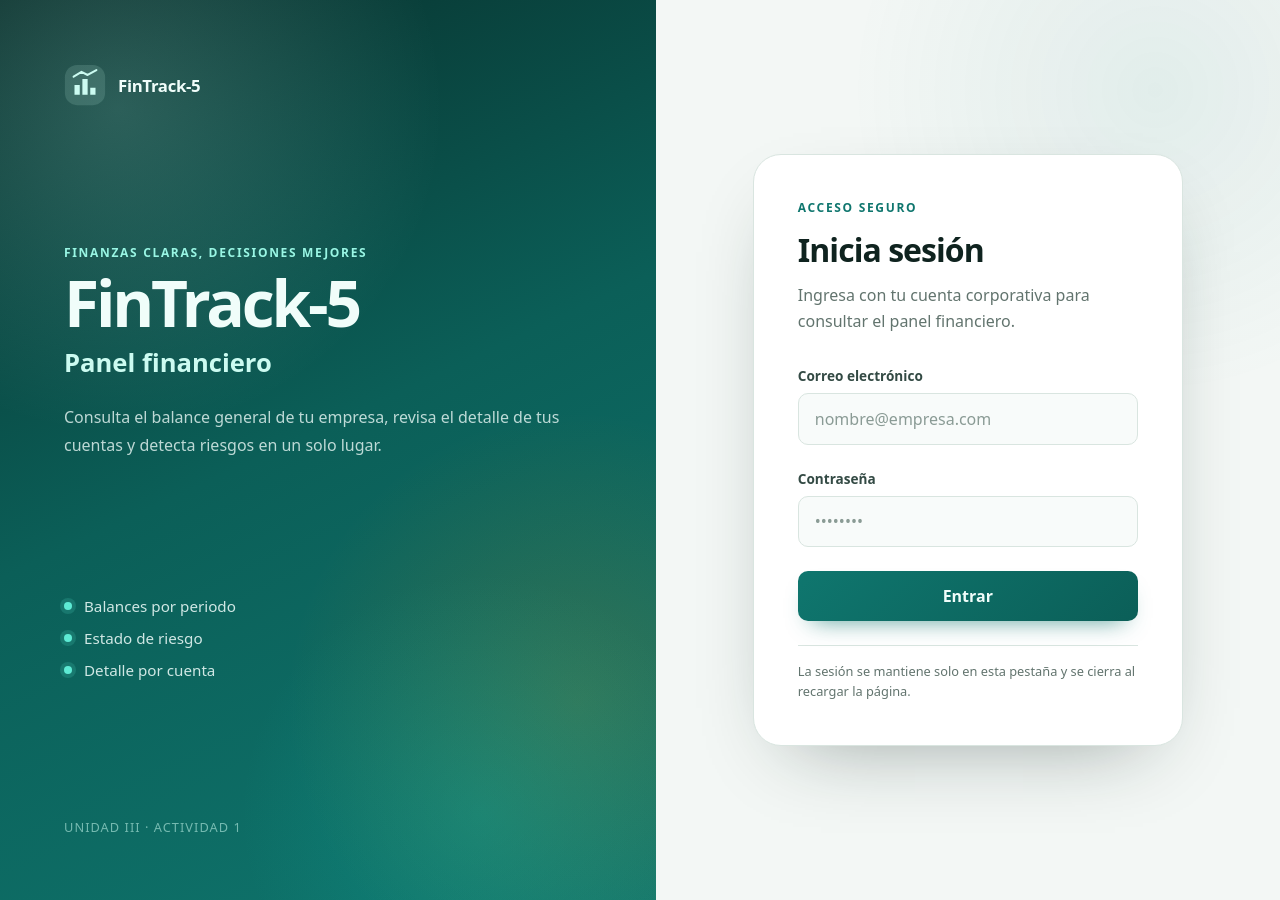
Test case: login › muestra un error de conexión cuando no hay red
Type "admin_a@test.local" into the field labelled "Correo electrónico" at (968, 419), box [798,393,1138,444]
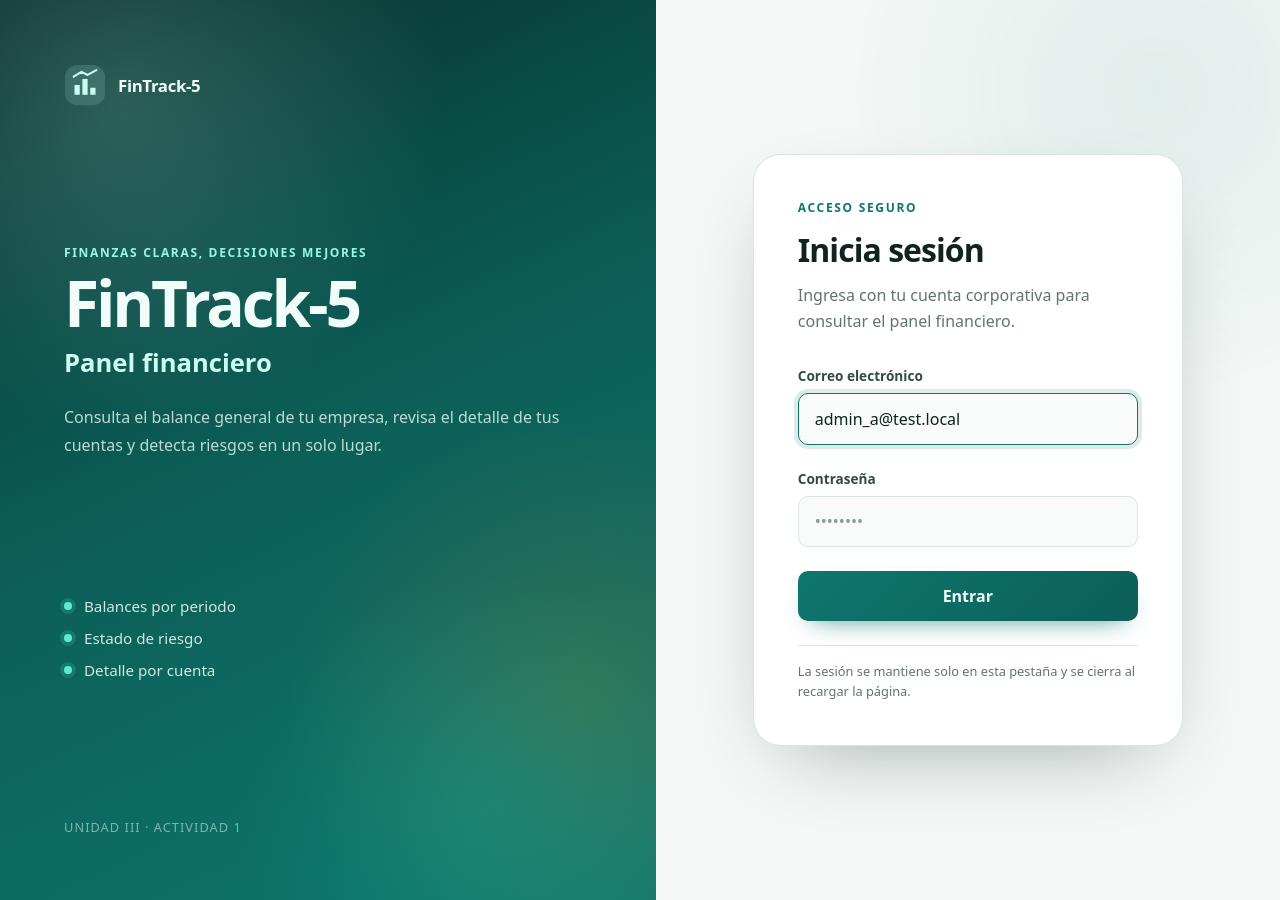
Type "clave-correcta" into the password field labelled "Contraseña" at (968, 521), box [798,496,1138,547]
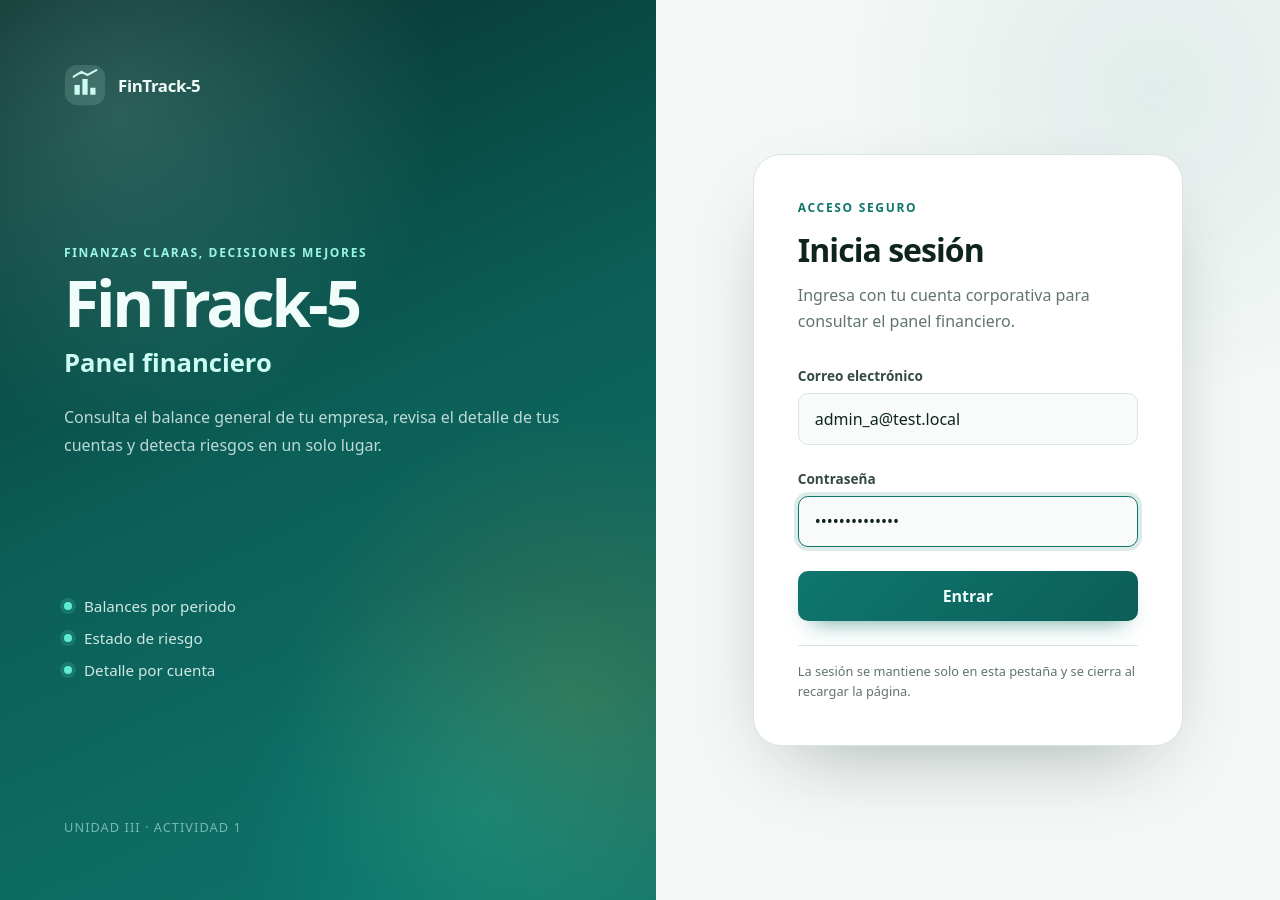
Click the button "Entrar" at (968, 596), box [798,571,1138,622]
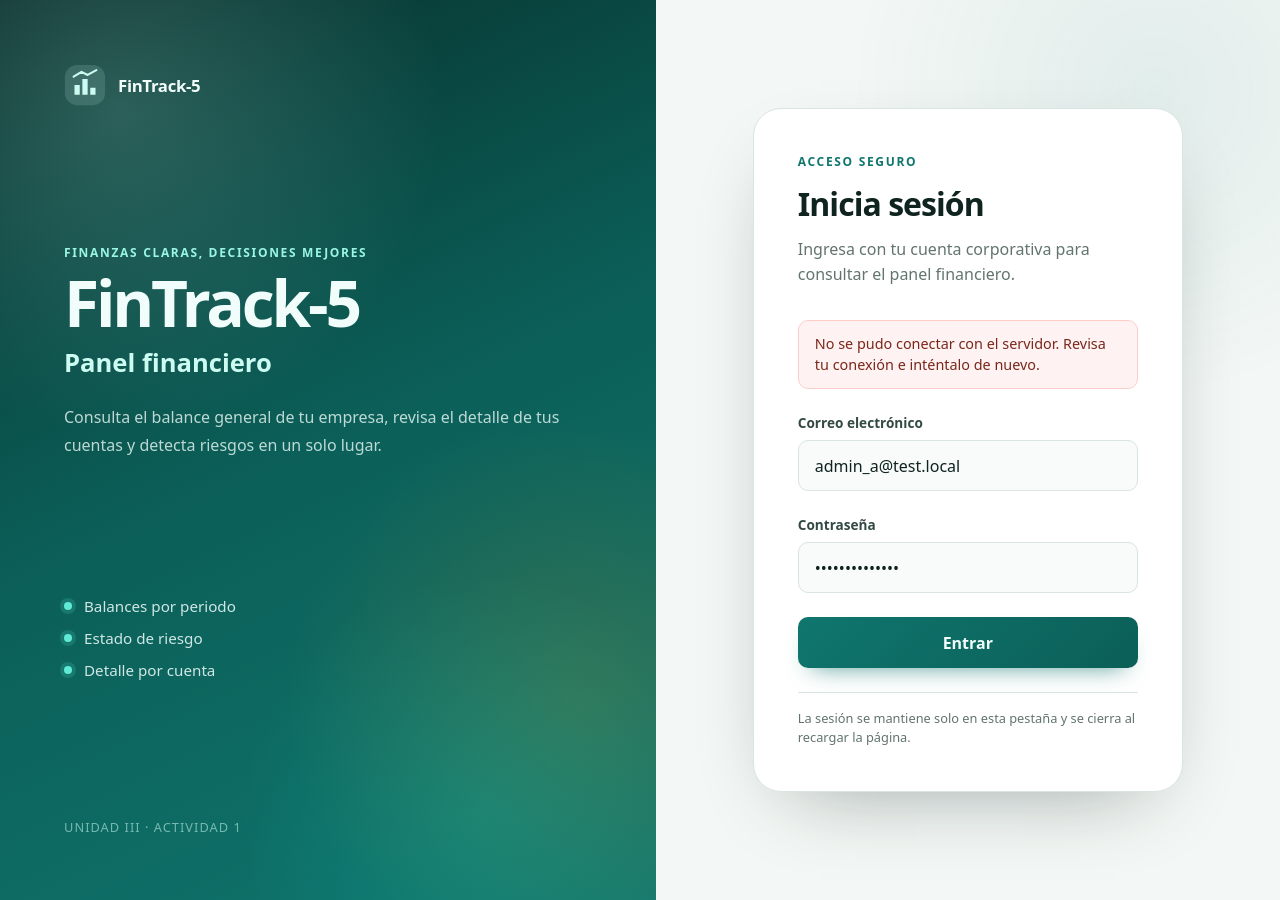
Result: the message shows "No se pudo conectar con el servidor" at [815,334,1106,374]
